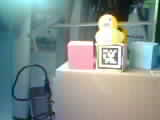duck: (90, 8, 134, 52)
